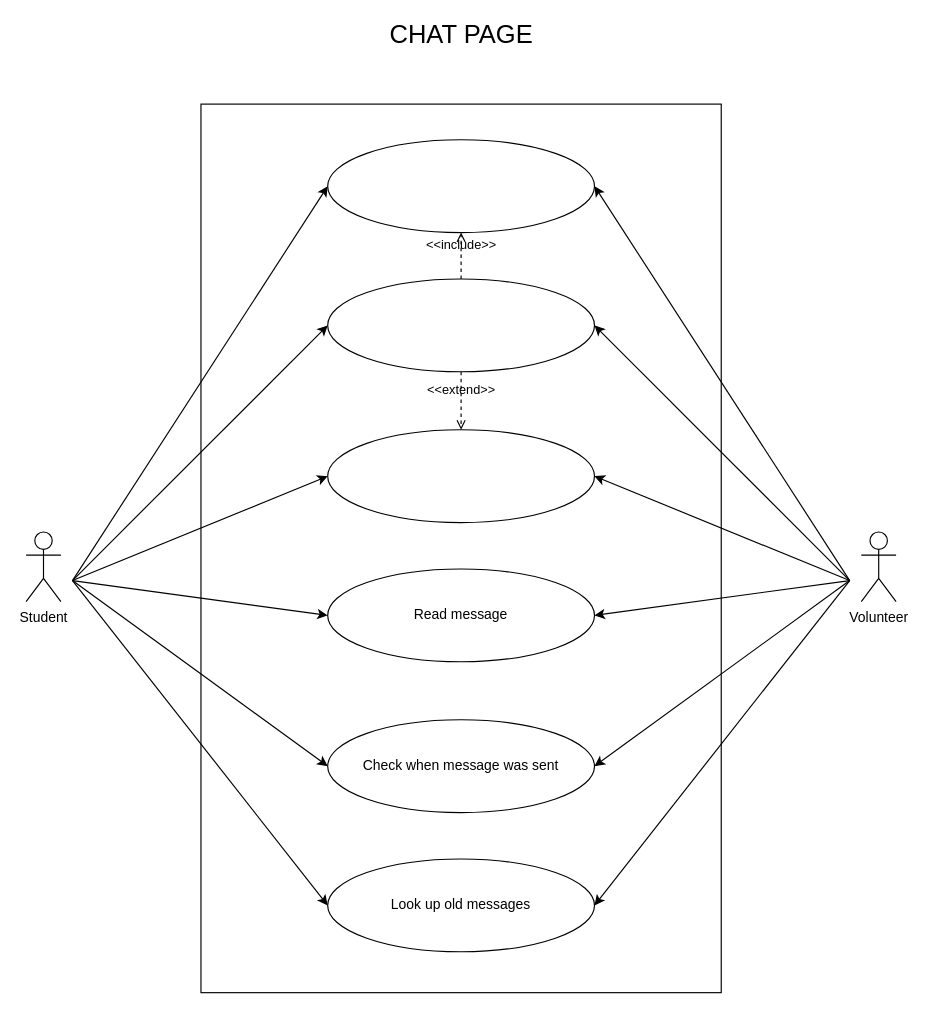
This 928x1013 diagram has some shape labels left out. Here are the shapes that lost their labels. From the top down, the box of each, then its label:
(327, 139, 594, 233): Add or delete contact
(327, 278, 594, 372): Send a message
(327, 429, 594, 523): Check if message is received and/or read
